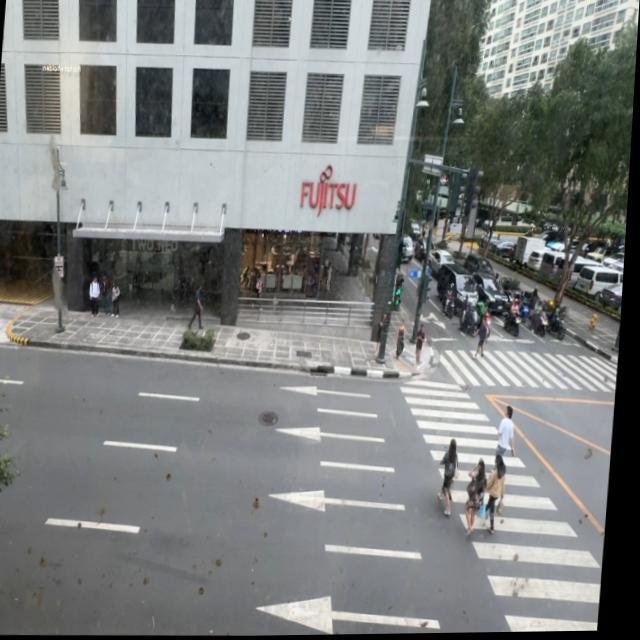jaywalking: (482, 450, 509, 534)
